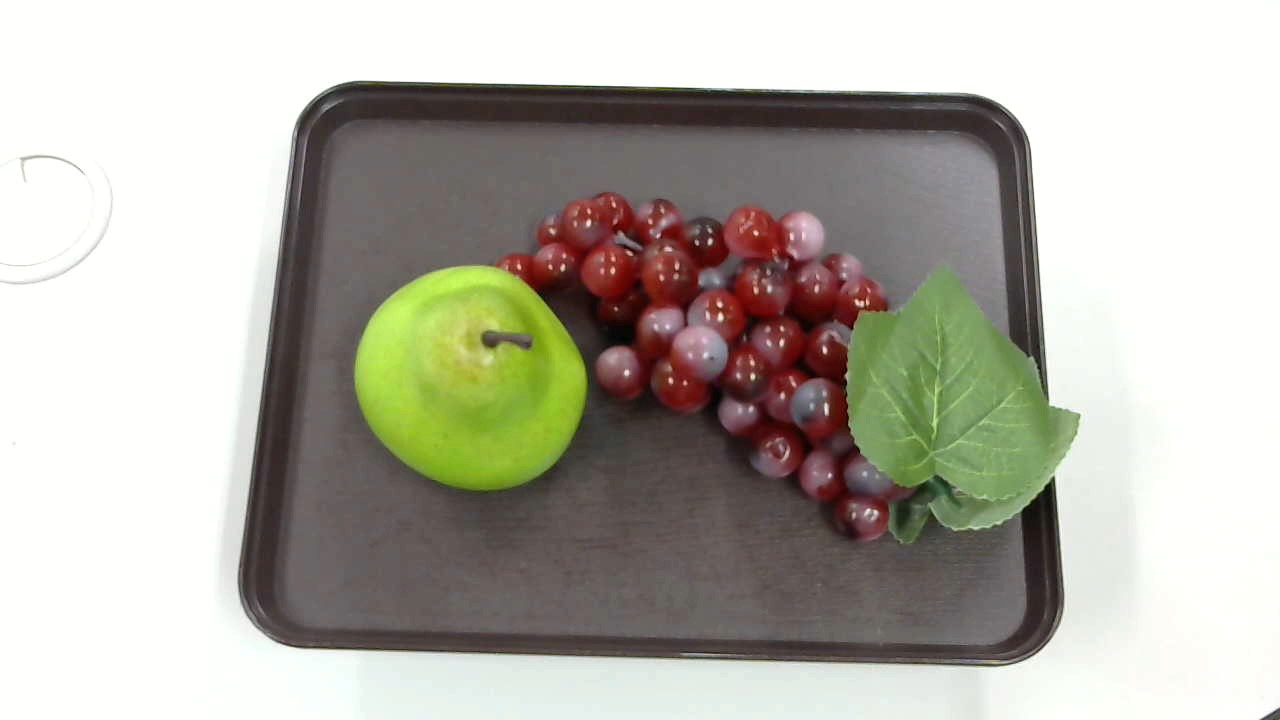grape: (493, 181, 1081, 561)
green pear: (356, 266, 588, 491)
